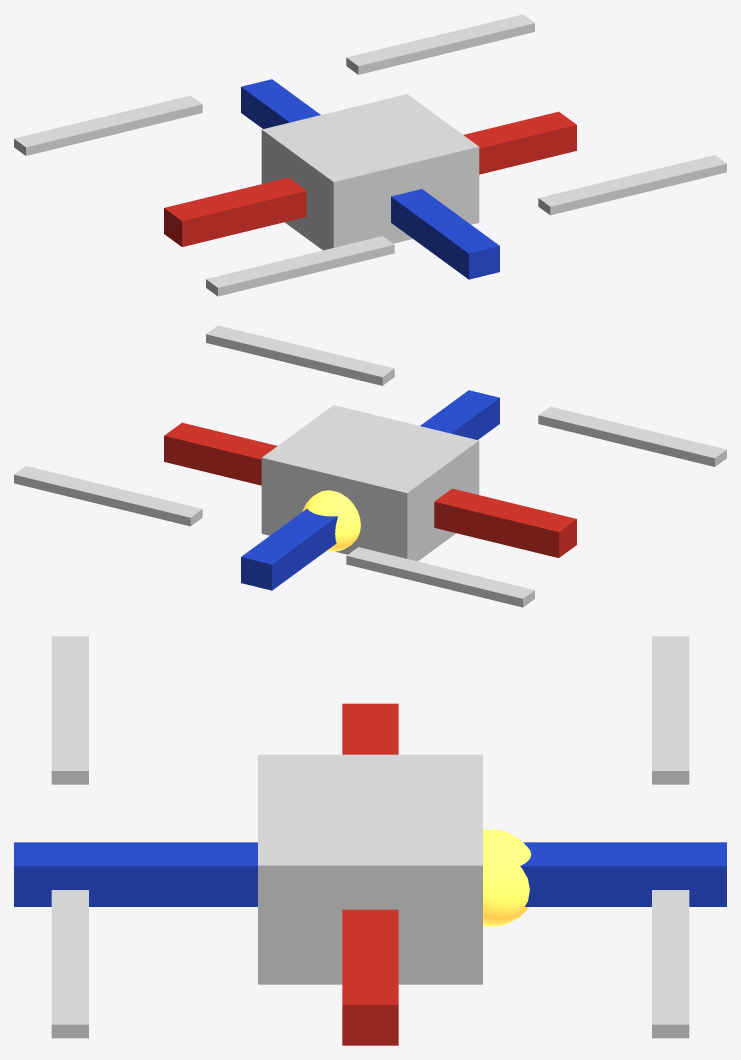
Rendered from actor.gltf.
3 views of the same model, one above another, from view 1: azimuth 30°, elevation 25°; view 2: azimuth 150°, elevation 25°; view 3: azimuth 270°, elevation 25° (orthographic). The views are drawn at different scales.
Parts seen in each view (by area): view 1: Exhibit; view 2: Exhibit; view 3: Exhibit.
Part boxes in pixels (x1,y1,x2,y2): Exhibit: (14,14,726,296); Exhibit: (14,325,726,607); Exhibit: (14,636,726,1045).
Bounding box in the file's own units: 2.45 × 0.35 × 1.9.
